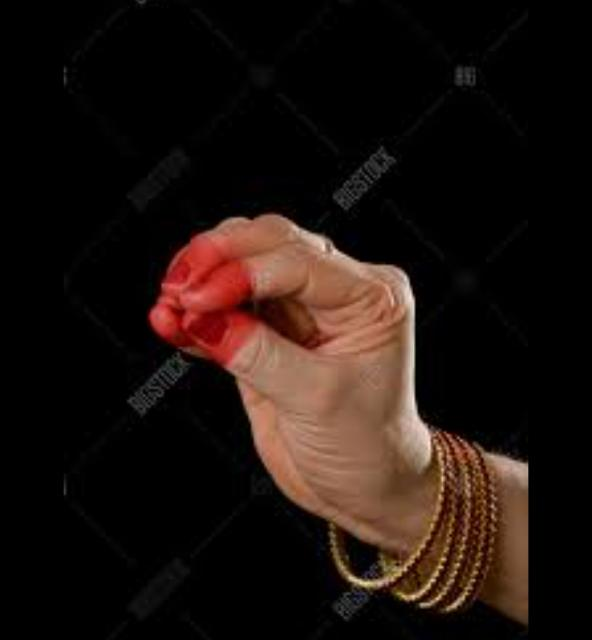mukul: (149, 216, 497, 628)
